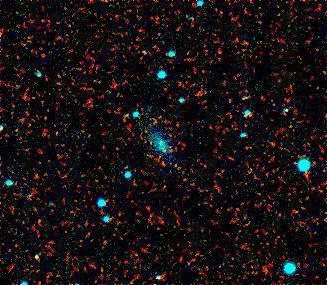star: (26, 243, 56, 273)
